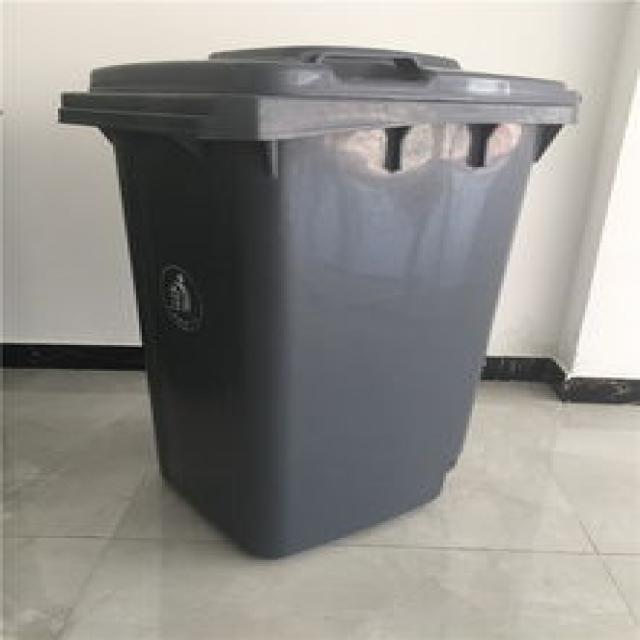garbage_bin: (55, 44, 579, 558)
